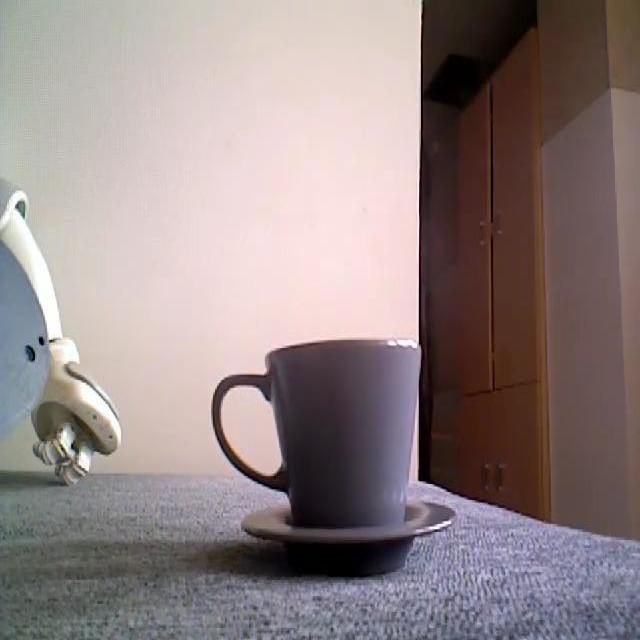cup: (206, 332, 442, 552)
